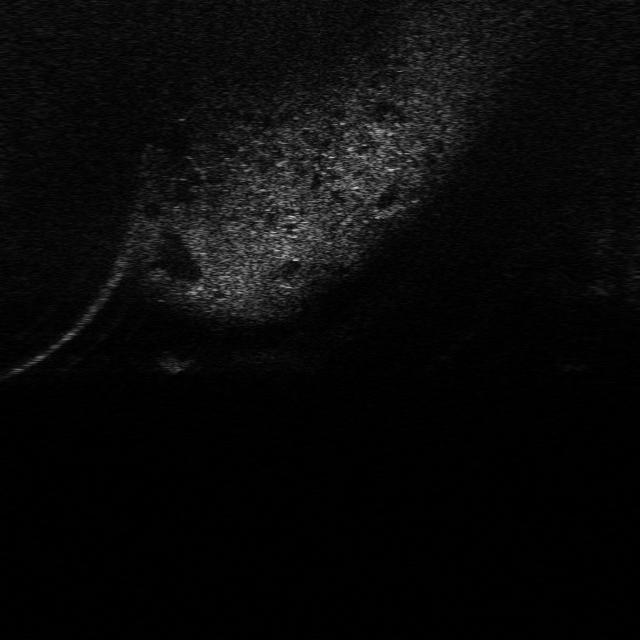cube: (151, 351, 197, 378)
